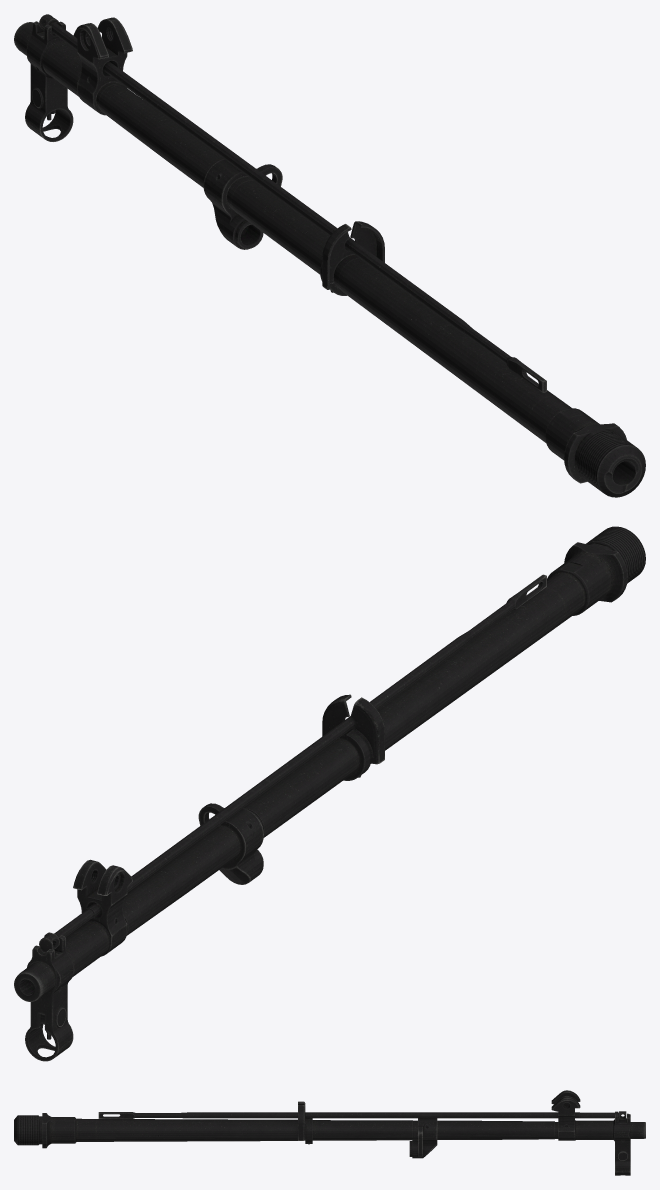
3 views of the same model, one above another, from view 1: azimuth 30°, elevation 25°; view 2: azimuth 150°, elevation 25°; view 3: azimuth 270°, elevation 25° (orthographic). The views are drawn at different scales.
Parts seen in each view (by area): view 1: TW_634eff66517ccc8a960fc735_PZ_Import; view 2: TW_634eff66517ccc8a960fc735_PZ_Import; view 3: TW_634eff66517ccc8a960fc735_PZ_Import.
Part boxes in pixels (x1,y1,x2,y2): TW_634eff66517ccc8a960fc735_PZ_Import: (14,14,645,497); TW_634eff66517ccc8a960fc735_PZ_Import: (14,526,645,1061); TW_634eff66517ccc8a960fc735_PZ_Import: (14,1090,645,1175).
Bounding box in the file's own units: 0.0202 × 0.2999 × 0.0422.
1 material, 1 textured.
